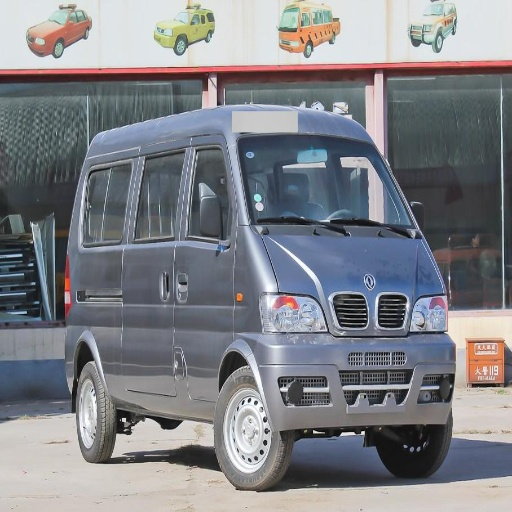front_bumper: (259, 315, 455, 427)
front_left_light: (413, 294, 448, 331)
front_right_door: (173, 141, 235, 316)
front_right_light: (261, 292, 322, 333)
